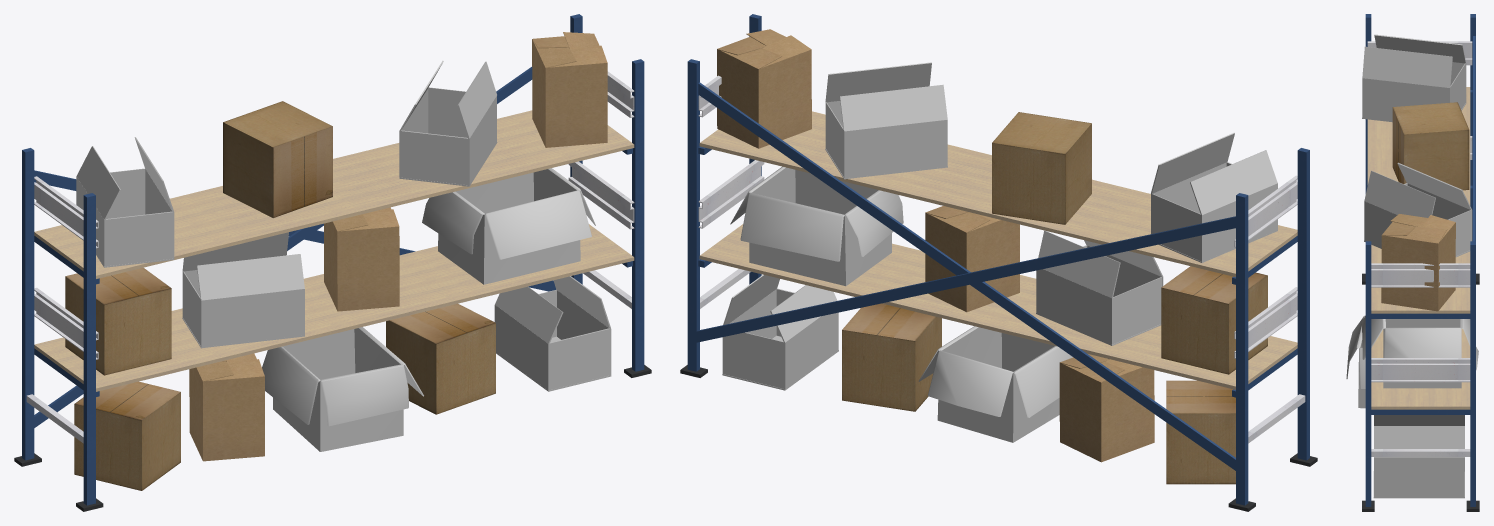
The model's file is BigShelves04Group4.FBX.
3 views of the same model, side by side, from view 1: azimuth 30°, elevation 25°; view 2: azimuth 150°, elevation 25°; view 3: azimuth 270°, elevation 25° (orthographic). The views are drawn at different scales.
Visible parts, largest first — view 1: BigShelves04, Cardbox_open01, Cardboard_box01, Cardbox_open02, Cardbox_closed01; view 2: BigShelves04, Cardbox_open01, Cardboard_box01, Cardbox_open02, Cardbox_closed01; view 3: Cardbox_open01, BigShelves04, Cardboard_box01, Cardbox_open02, Cardbox_closed01.
Boxes of the visible parts, left/top/right/bottom form: BigShelves04: left=14, top=14, right=651, bottom=511; Cardbox_open01: left=76, top=60, right=611, bottom=391; Cardboard_box01: left=65, top=101, right=495, bottom=490; Cardbox_open02: left=262, top=168, right=595, bottom=451; Cardbox_closed01: left=189, top=32, right=607, bottom=461; BigShelves04: left=680, top=14, right=1317, bottom=511; Cardbox_open01: left=722, top=62, right=1277, bottom=390; Cardboard_box01: left=842, top=112, right=1267, bottom=484; Cardbox_open02: left=730, top=166, right=1072, bottom=442; Cardbox_closed01: left=717, top=29, right=1154, bottom=462; Cardbox_open01: left=1362, top=34, right=1472, bottom=498; BigShelves04: left=1362, top=14, right=1479, bottom=511; Cardboard_box01: left=1392, top=102, right=1469, bottom=190; Cardbox_open02: left=1346, top=315, right=1478, bottom=408; Cardbox_closed01: left=1381, top=214, right=1455, bottom=311.
Size of the model in its own units: 337 by 179 by 80.55.
